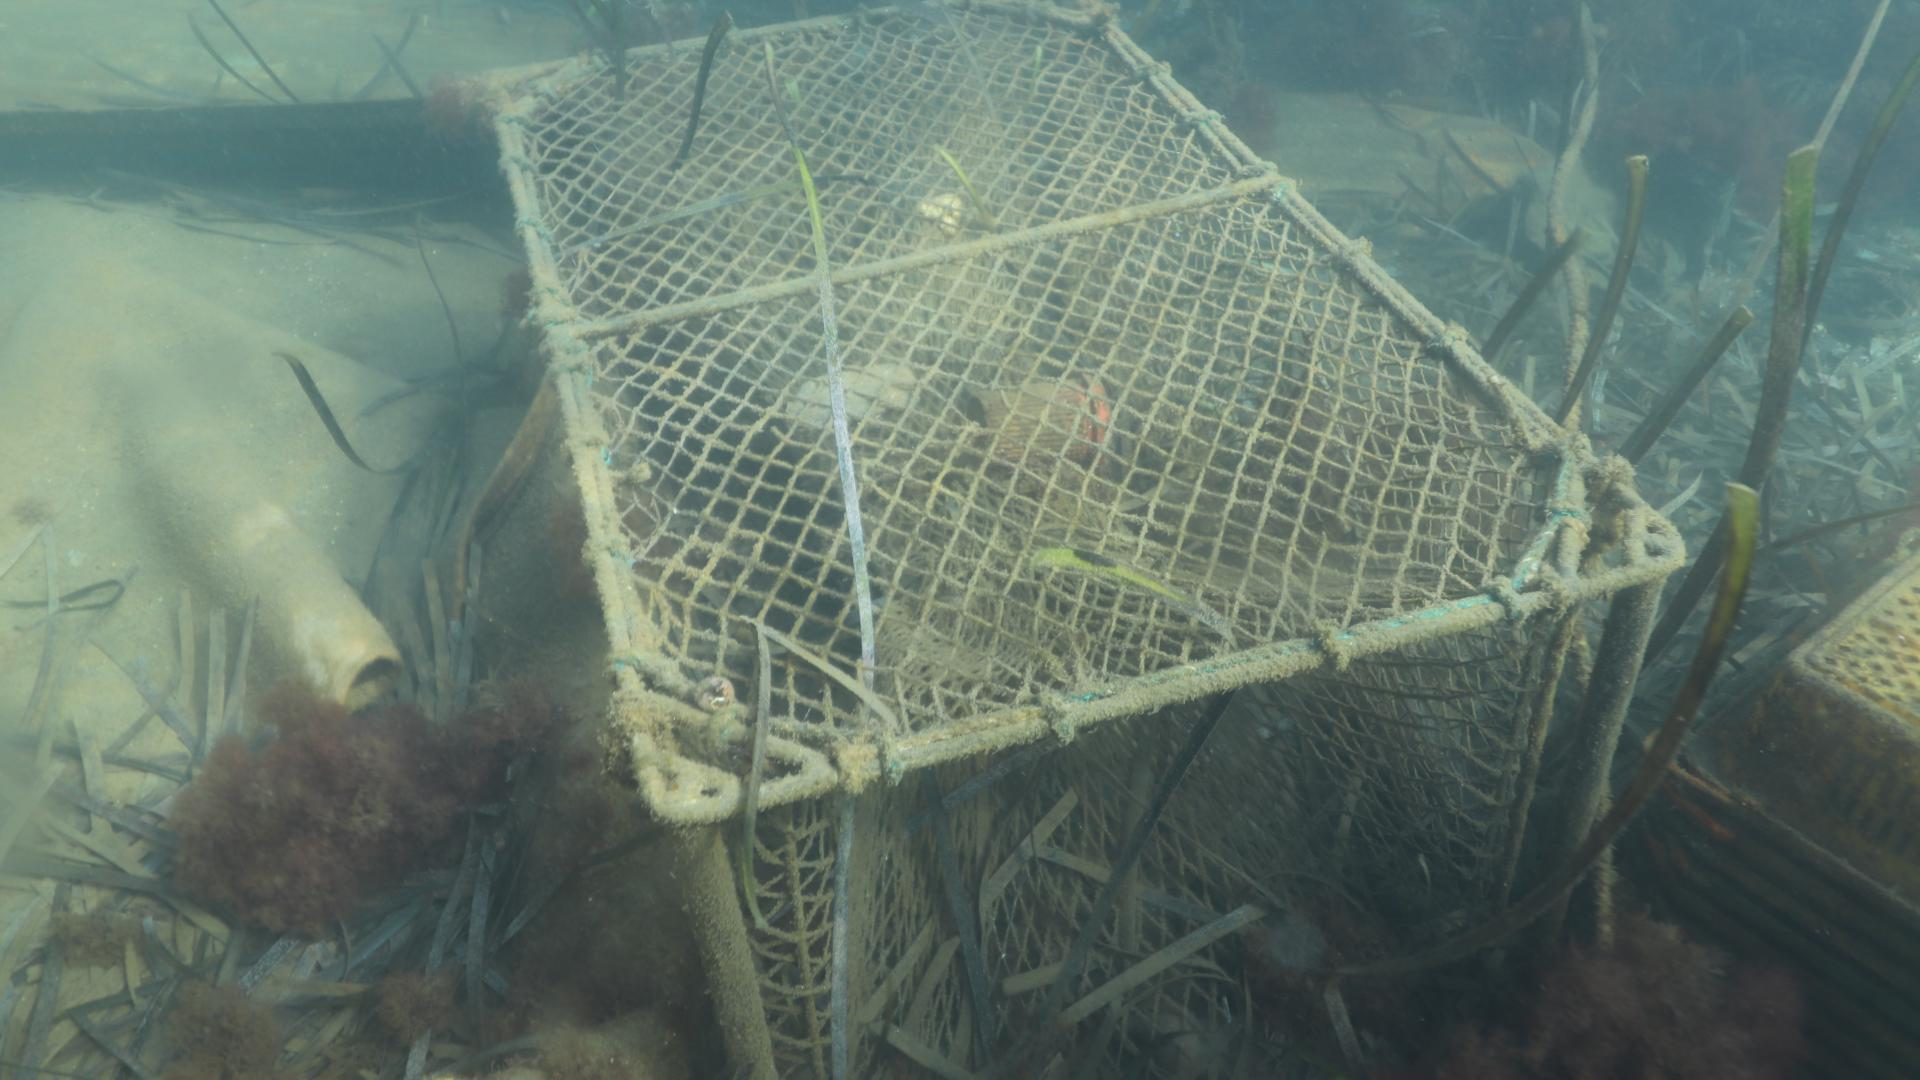rectangular fish trap: (465, 0, 1689, 1080)
rope: (1547, 0, 1601, 427)
